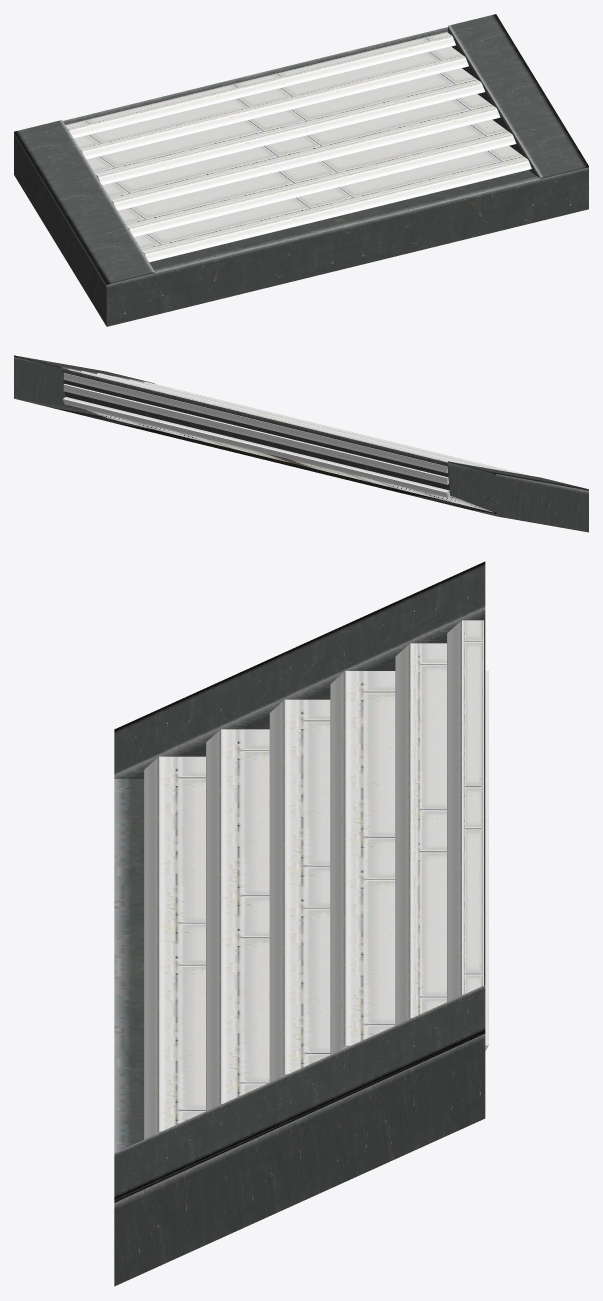
The model's file is Neon_Stairs_A.FBX.
The picture shows the model from 3 angles, top to bottom: view 1: azimuth 30°, elevation 25°; view 2: azimuth 150°, elevation 25°; view 3: azimuth 270°, elevation 25°; orthographic projection. The views are drawn at different scales.
Parts seen in each view (by area): view 1: Neon_Stairs_A; view 2: Neon_Stairs_A; view 3: Neon_Stairs_A.
Boxes of the visible parts, x1=… form: Neon_Stairs_A: x1=14, y1=14, x2=588, y2=326; Neon_Stairs_A: x1=14, y1=355, x2=588, y2=532; Neon_Stairs_A: x1=114, y1=561, x2=488, y2=1286.
Size of the model in its own units: 6 by 1.51 by 2.02.
